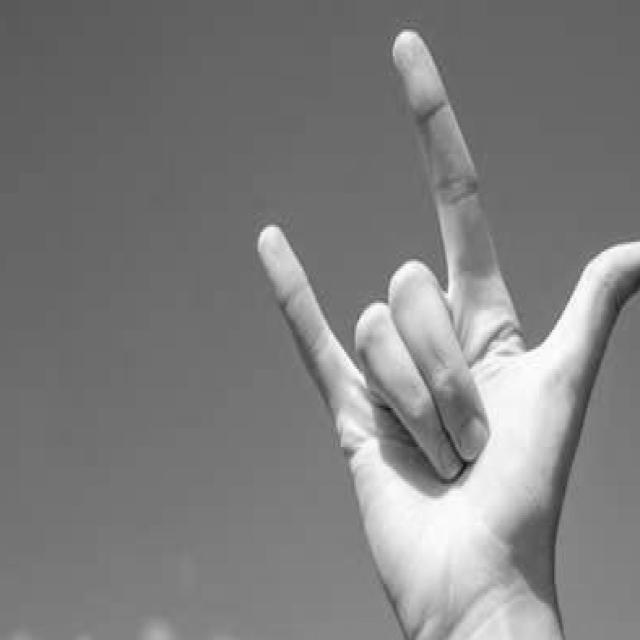i love you: (253, 22, 640, 640)
